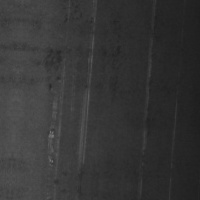scratches: (136, 4, 158, 175), (75, 27, 96, 169), (43, 77, 68, 175)
